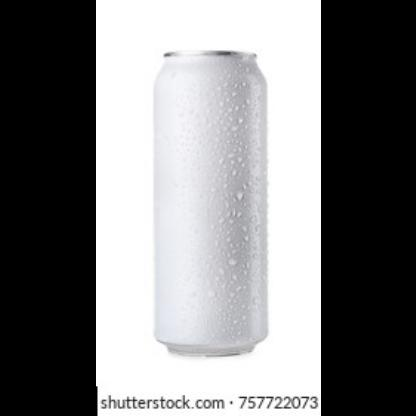Tin_Can: (146, 48, 276, 364)
